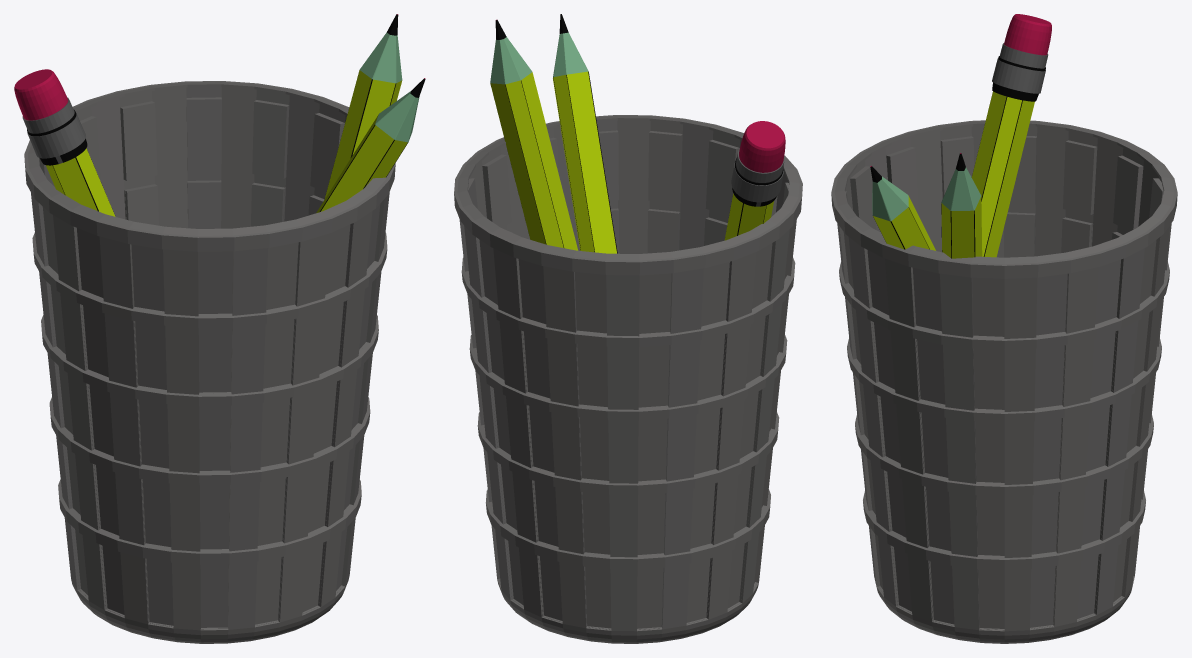
File: PencilCup.fbx
3 renders of one model, left to right at view 1: azimuth 30°, elevation 25°; view 2: azimuth 150°, elevation 25°; view 3: azimuth 270°, elevation 25°, orthographic. The views are drawn at different scales.
Parts seen in each view (by area): view 1: Pencil Cup; view 2: Pencil Cup; view 3: Pencil Cup.
Boxes of the visible parts, x1,y1,x2,y2 form: Pencil Cup: (14,14,425,643); Pencil Cup: (454,14,802,643); Pencil Cup: (831,14,1177,643).
Bounding box in the file's own units: 88.65 × 137 × 83.29.
